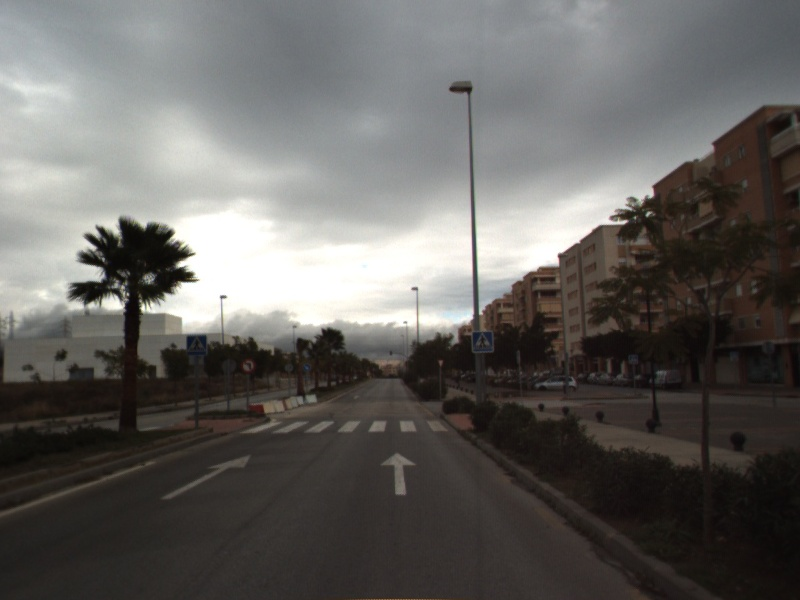STRAIGHT: (159, 453, 253, 501), (378, 450, 418, 497)
